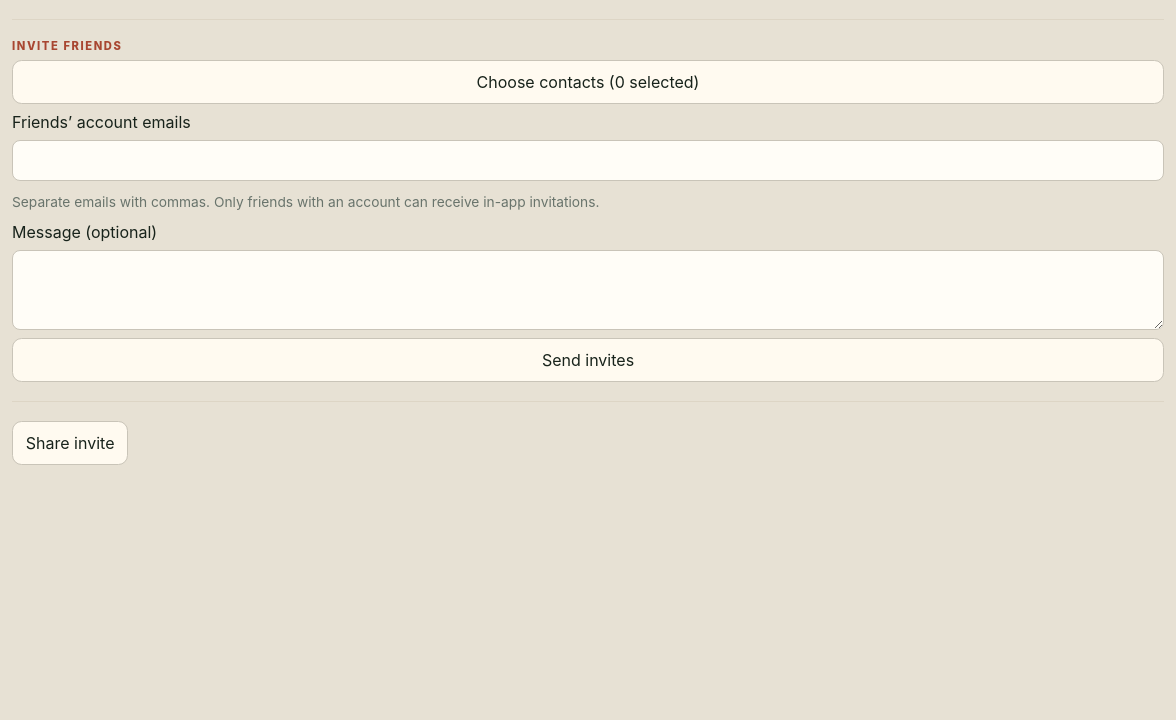
Scenario: invitation controls › keeps the draft when an unmatched account is rejected
In the field labelled "Friends’ account emails": (588, 161) [12, 140, 1164, 181], type "unknown@example.com"
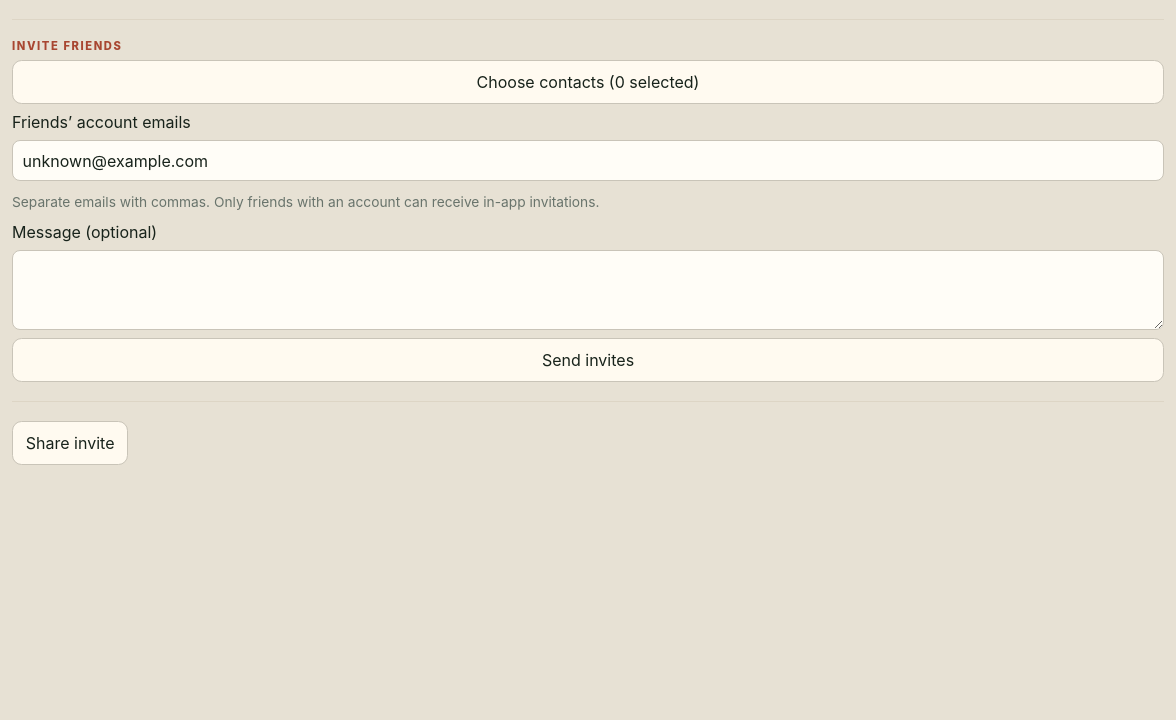
Click the button "Send invites": (588, 360) [12, 338, 1164, 382]
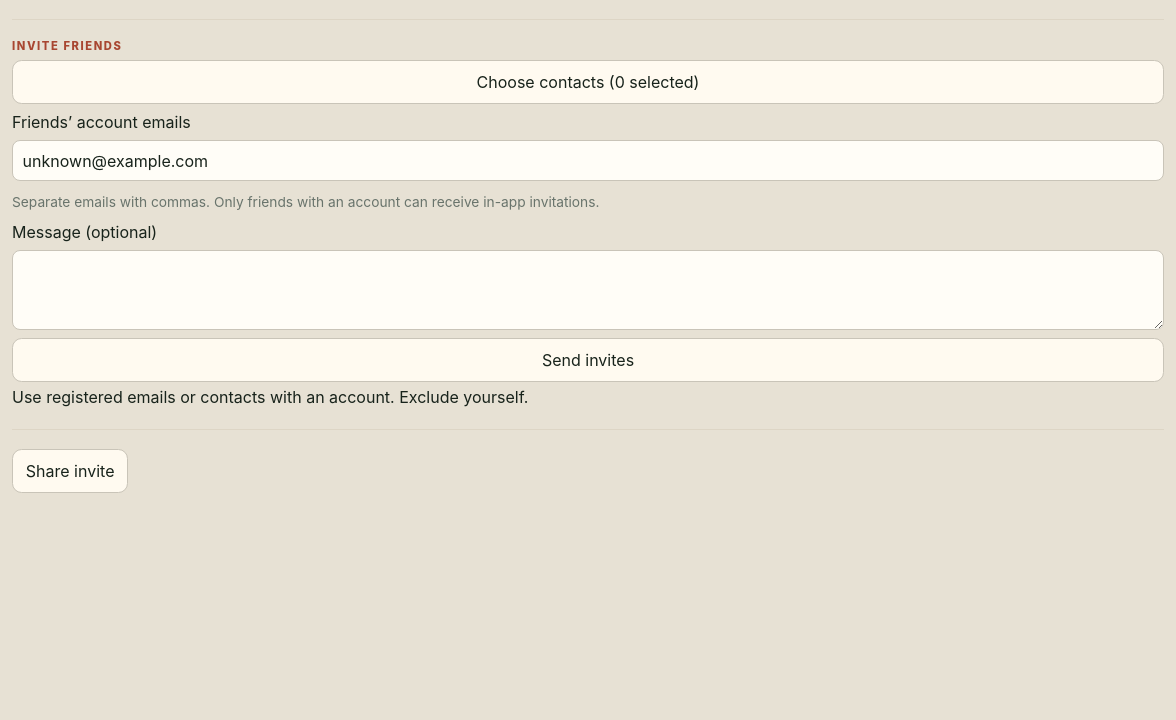
Check: the text "Use registered emails or contacts with an account. Exclude yourself." is shown, box [12, 387, 528, 407]
